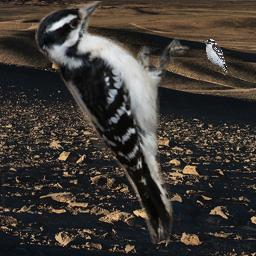Woodpecker: (35, 1, 190, 244), (202, 39, 228, 74)
